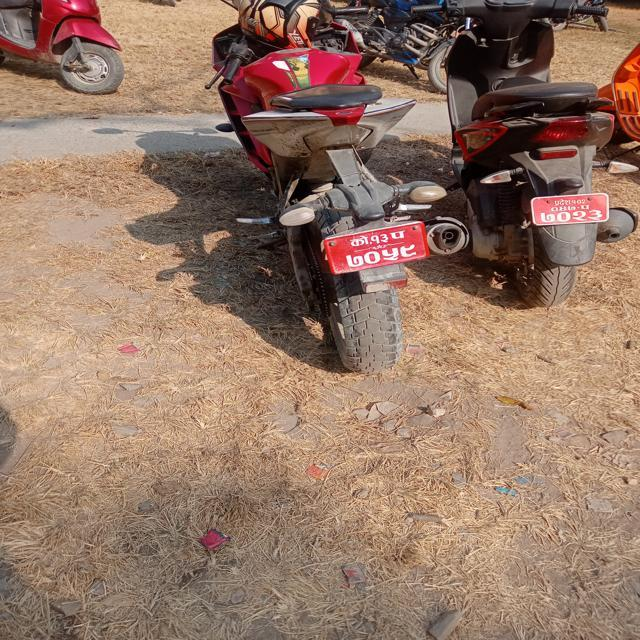license_plate: (206, 9, 479, 381)
